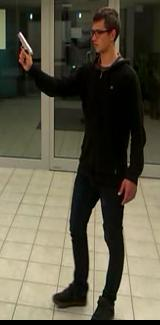pistol: (16, 31, 35, 66)
